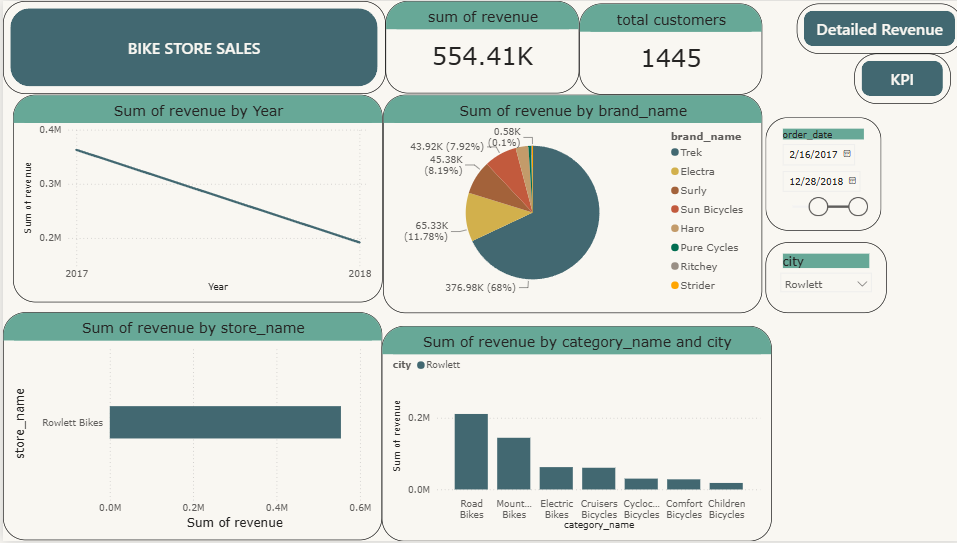

The dashboard page shown, as its layout file describes it:
{"tool":"powerbi","page":{"name":"Page 1","canvas":[1280,720],"ordinal":0},"visuals":[{"type":"barChart","fields":{"Category":["stores.store_name"],"Y":["Sum(order_item.revenue)"]},"box":[0,415.7,505.7,304.3],"z":0},{"type":"clusteredColumnChart","fields":{"Category":["category_name.category_name"],"Y":["Sum(order_item.revenue)"],"Series":["stores.city"]},"box":[505.7,432.9,520,287.1],"z":1000},{"type":"lineChart","fields":{"Category":["orders_id.order_date.Variation.Date Hierarchy.Year","orders_id.order_date.Variation.Date Hierarchy.Quarter","orders_id.order_date.Variation.Date Hierarchy.Month","orders_id.order_date.Variation.Date Hierarchy.Day"],"Y":["Sum(order_item.revenue)"]},"box":[12.9,124.3,492.9,277.1],"z":2000},{"type":"pieChart","fields":{"Category":["brand_name.brand_name"],"Y":["Sum(order_item.revenue)"]},"box":[507.1,124.3,505.7,291.4],"z":3000},{"type":"slicer","fields":{"Values":["stores.city"]},"box":[1017.1,321.4,161.4,94.3],"z":4000},{"type":"slicer","fields":{"Values":["orders_id.order_date"]},"box":[1017.1,154.3,154.3,151.4],"z":5000},{"type":"card","title":"sum of revenue","fields":{"Values":["Sum(order_item.revenue)"]},"box":[510,0,258.6,122.9],"z":6000},{"type":"card","title":"total customers","fields":{"Values":["Table.total_customers"]},"box":[768.6,2.9,244.3,121.4],"z":7000},{"type":"shape","box":[1058.6,2.9,221.4,67.1],"z":8000},{"type":"shape","box":[1135.7,70,128.6,67.1],"z":9000},{"type":"shape","box":[0,0,510,124.3],"z":10000}]}

Visuals, with their boxes in screenshot pixels (x1, y1, x2, y2), scaled from the page's 1280x720 canvas onto the 957x543 screenshot:
barChart - stores.store_name x Sum(order_item.revenue): select_region(0, 314, 378, 542)
clusteredColumnChart - category_name.category_name x Sum(order_item.revenue): select_region(378, 326, 767, 542)
lineChart - orders_id.order_date.Variation.Date Hierarchy.Year x orders_id.order_date.Variation.Date Hierarchy.Quarter: select_region(10, 94, 378, 303)
pieChart - brand_name.brand_name x Sum(order_item.revenue): select_region(379, 94, 757, 314)
slicer - stores.city: select_region(760, 242, 881, 314)
slicer - orders_id.order_date: select_region(760, 116, 876, 231)
"sum of revenue" card: select_region(381, 0, 575, 93)
"total customers" card: select_region(575, 2, 757, 94)
shape: select_region(791, 2, 956, 53)
shape: select_region(849, 53, 945, 103)
shape: select_region(0, 0, 381, 94)
